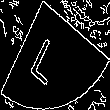L_NE: (35, 25, 75, 85)
